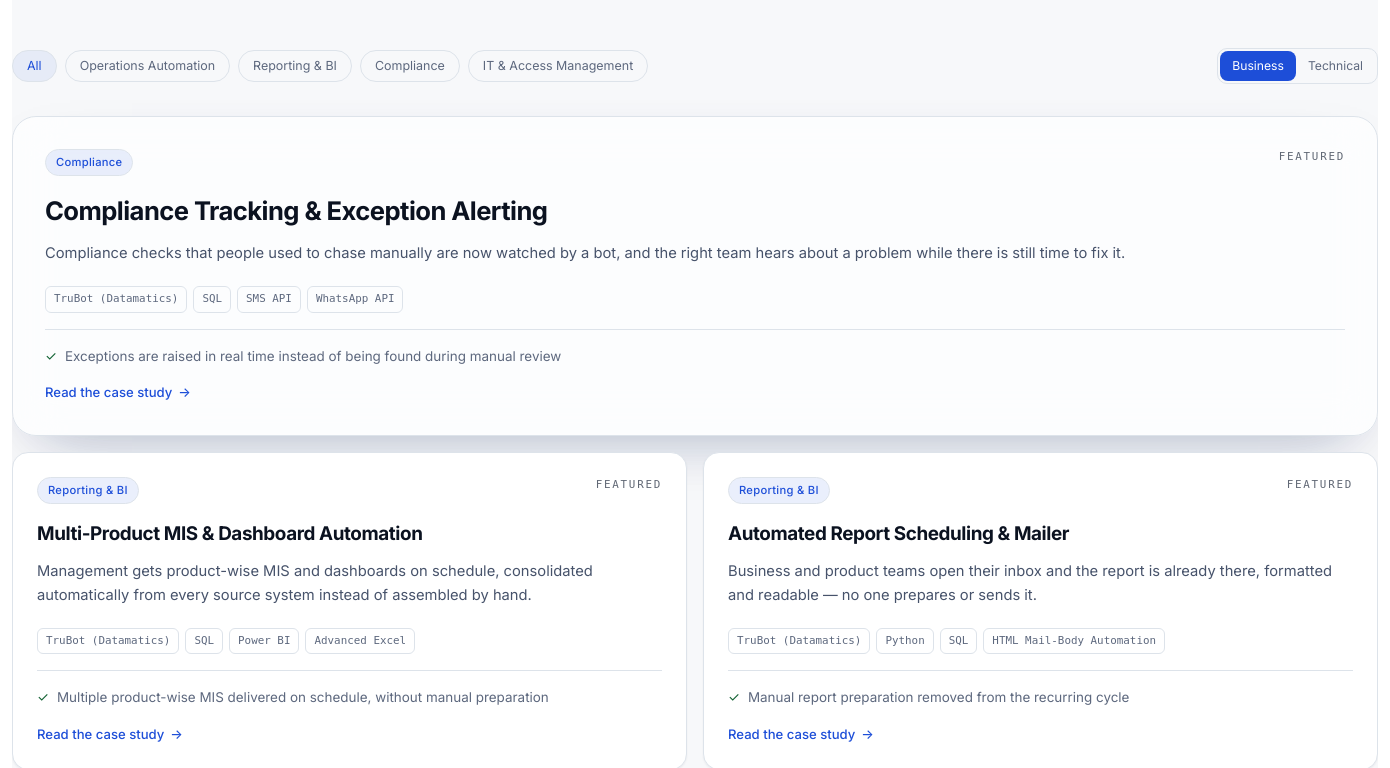
Test case: ProjectsSection › switches every card between business and technical language
The width and height of the screenshot is (1390, 768).
Expected: the text "Compliance checks that people used to chase manually are now watched by a bot, and the right team hears about a problem " is shown, [45, 244, 1125, 262]
Click the button with test id "project-view-technical" at {"x": 1335, "y": 66}, box [1296, 51, 1375, 81]
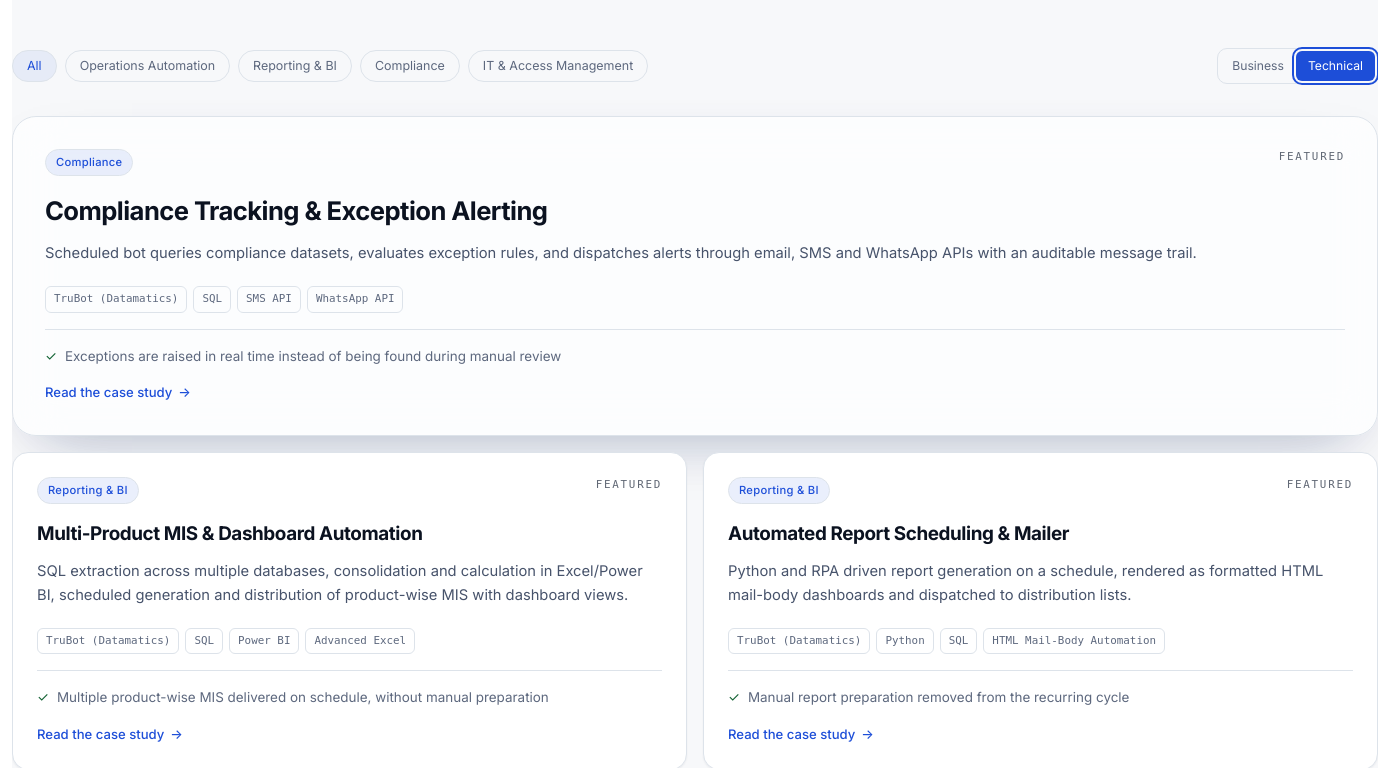
Expected: the text "Scheduled bot queries compliance datasets, evaluates exception rules, and dispatches alerts through email, SMS and Whats" is shown, [45, 244, 1197, 262]
Expected: the text "Compliance checks that people used to chase manually are now watched by a bot, and the right team hears about a problem " is gone
